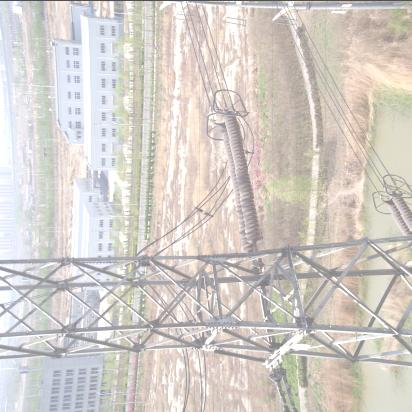insulator: (216, 111, 265, 258), (387, 193, 412, 237)
